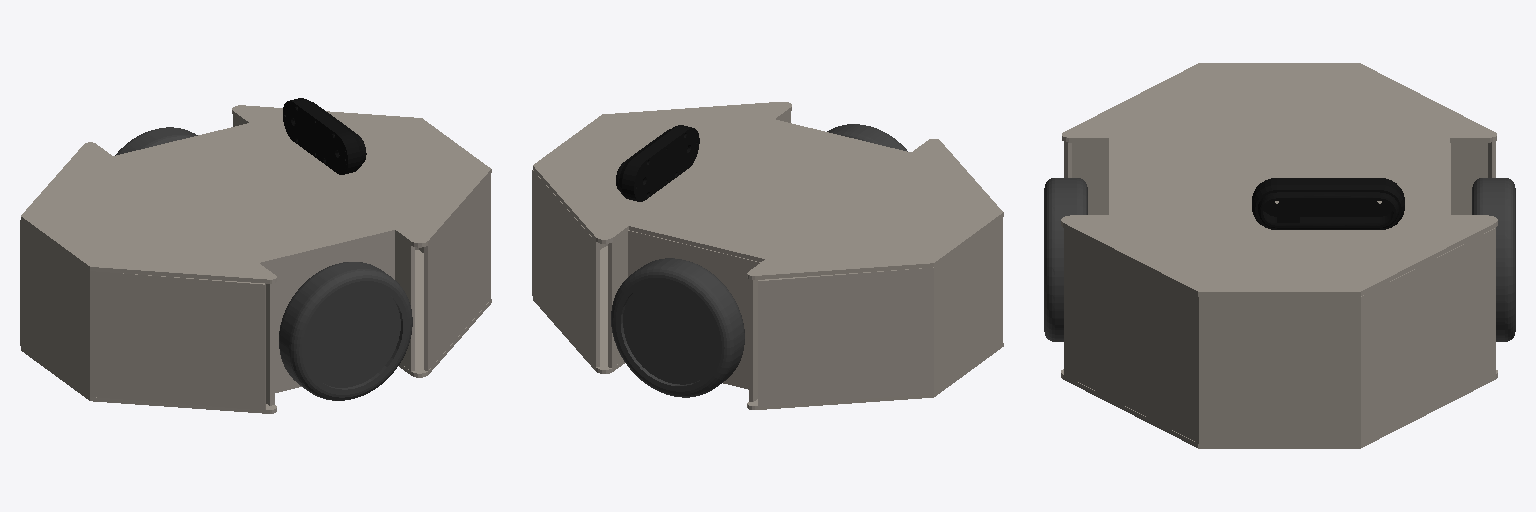
robot.urdf — URDFAssem2:
<?xml version="1.0" encoding="utf-8"?>
<!-- This URDF was automatically created by SolidWorks to URDF Exporter! Originally created by [author] ([email redacted]) 
     Commit Version: 1.6.0-1-g15f4949  Build Version: 1.6.7594.29634
     For more information, please see http://wiki.ros.org/sw_urdf_exporter -->
<robot
  name="URDFAssem2">
  <link
    name="base_link">
    <inertial>
      <origin
        xyz="0.00208470504530124 -0.000236944935244652 0.0800059486867469"
        rpy="0 0 0" />
      <mass
        value="2.64057664091934" />
      <inertia
        ixx="0.0262820884723891"
        ixy="2.69555215232122E-17"
        ixz="-8.74780144678154E-10"
        iyy="0.0305148360761198"
        iyz="1.69720612763207E-18"
        izz="0.0524178305121725" />
    </inertial>
    <visual>
      <origin
        xyz="0 0 0"
        rpy="0 0 0" />
      <geometry>
        <mesh
          filename="package://URDFAssem2/meshes/base_link.STL" />
      </geometry>
      <material
        name="">
        <color
          rgba="0.647058823529412 0.619607843137255 0.588235294117647 1" />
      </material>
    </visual>
    <collision>
      <origin
        xyz="0 0 0"
        rpy="0 0 0" />
      <geometry>
        <mesh
          filename="package://URDFAssem2/meshes/base_link.STL" />
      </geometry>
    </collision>
  </link>
  <link
    name="WR_link">
    <inertial>
      <origin
        xyz="4.20128341838133E-18 0.0382135054134345 -1.38777878078145E-17"
        rpy="0 0 0" />
      <mass
        value="0.659446300008721" />
      <inertia
        ixx="0.00103103838200959"
        ixy="6.75029427341629E-20"
        ixz="-2.2389835307371E-19"
        iyy="0.00190754760746418"
        iyz="-6.15130681378243E-20"
        izz="0.00103103838200959" />
    </inertial>
    <visual>
      <origin
        xyz="0 0 0"
        rpy="0 0 0" />
      <geometry>
        <mesh
          filename="package://URDFAssem2/meshes/WR_link.STL" />
      </geometry>
      <material
        name="">
        <color
          rgba="0.294117647058824 0.294117647058824 0.294117647058824 1" />
      </material>
    </visual>
    <collision>
      <origin
        xyz="0 0 0"
        rpy="0 0 0" />
      <geometry>
        <mesh
          filename="package://URDFAssem2/meshes/WR_link.STL" />
      </geometry>
    </collision>
  </link>
  <joint
    name="WR_link"
    type="continuous">
    <origin
      xyz="0.00018599 0.15827 0.075"
      rpy="0 0 0" />
    <parent
      link="base_link" />
    <child
      link="WR_link" />
    <axis
      xyz="0 -1 0" />
    <limit
      lower="0"
      upper="0"
      effort="0"
      velocity="0" />
  </joint>
  <link
    name="WL_link">
    <inertial>
      <origin
        xyz="-4.17688886950041E-17 -0.0382135054134346 8.32667268468867E-17"
        rpy="0 0 0" />
      <mass
        value="0.659446300008721" />
      <inertia
        ixx="0.00103103838200959"
        ixy="7.36016516636654E-20"
        ixz="1.66977987172404E-19"
        iyy="0.00190754760746418"
        iyz="-5.66425648346361E-20"
        izz="0.00103103838200959" />
    </inertial>
    <visual>
      <origin
        xyz="0 0 0"
        rpy="0 0 0" />
      <geometry>
        <mesh
          filename="package://URDFAssem2/meshes/WL_link.STL" />
      </geometry>
      <material
        name="">
        <color
          rgba="0.294117647058824 0.294117647058824 0.294117647058824 1" />
      </material>
    </visual>
    <collision>
      <origin
        xyz="0 0 0"
        rpy="0 0 0" />
      <geometry>
        <mesh
          filename="package://URDFAssem2/meshes/WL_link.STL" />
      </geometry>
    </collision>
  </link>
  <joint
    name="WL_link"
    type="continuous">
    <origin
      xyz="0.00018599 -0.15737 0.075"
      rpy="0 0 0" />
    <parent
      link="base_link" />
    <child
      link="WL_link" />
    <axis
      xyz="0 1 0" />
    <limit
      lower="0"
      upper="0"
      effort="0"
      velocity="0" />
  </joint>
  <link
    name="camera_link">
    <inertial>
      <origin
        xyz="-0.017653824464481 0.00131903724453735 0.000694910126294856"
        rpy="0 0 0" />
      <mass
        value="0.0624348084678499" />
      <inertia
        ixx="0.000123910252090277"
        ixy="2.51197166149138E-07"
        ixz="1.34074290038212E-07"
        iyy="1.74977055396427E-05"
        iyz="1.65109976286423E-06"
        izz="0.0001103344902272" />
    </inertial>
    <visual>
      <origin
        xyz="0 0 0"
        rpy="0 0 0" />
      <geometry>
        <mesh
          filename="package://URDFAssem2/meshes/camera_link.STL" />
      </geometry>
      <material
        name="">
        <color
          rgba="0.109803921568627 0.109803921568627 0.109803921568627 1" />
      </material>
    </visual>
    <collision>
      <origin
        xyz="0 0 0"
        rpy="0 0 0" />
      <geometry>
        <mesh
          filename="package://URDFAssem2/meshes/camera_link.STL" />
      </geometry>
    </collision>
  </link>
  <joint
    name="camera_link"
    type="fixed">
    <origin
      xyz="0.12987 0.045247 0.18325"
      rpy="0 0 0" />
    <parent
      link="base_link" />
    <child
      link="camera_link" />
    <axis
      xyz="0 0 0" />
  </joint>
</robot>

--- What the picture shows (computed from the rendered views, not written in the file) ---
The picture shows the robot from 3 angles, left to right: view 1: azimuth 30°, elevation 25°; view 2: azimuth 150°, elevation 25°; view 3: azimuth 270°, elevation 25°; orthographic projection.
Robot: URDFAssem2 — 4 links, 3 joints (2 continuous, 1 fixed); root link base_link; default pose: every joint at zero.
Visible links, largest first — view 1: base_link, WL_link, camera_link, WR_link; view 2: base_link, WR_link, camera_link, WL_link; view 3: base_link, camera_link, WR_link, WL_link.
Boxes of the visible links, <box> form: base_link: <box>20,105,491,413</box>; WL_link: <box>279,262,412,400</box>; camera_link: <box>283,98,366,174</box>; WR_link: <box>115,127,197,155</box>; base_link: <box>532,102,1003,409</box>; WR_link: <box>611,258,744,397</box>; camera_link: <box>616,125,699,201</box>; WL_link: <box>827,124,907,151</box>; base_link: <box>1061,63,1497,448</box>; camera_link: <box>1252,178,1404,229</box>; WR_link: <box>1472,178,1515,341</box>; WL_link: <box>1044,178,1087,341</box>.
Bounding box of the posed robot: 0.5 × 0.4356 × 0.2077 m (x, y, z).
4 mesh visuals loaded from 4 distinct referenced files (4 binary STL).